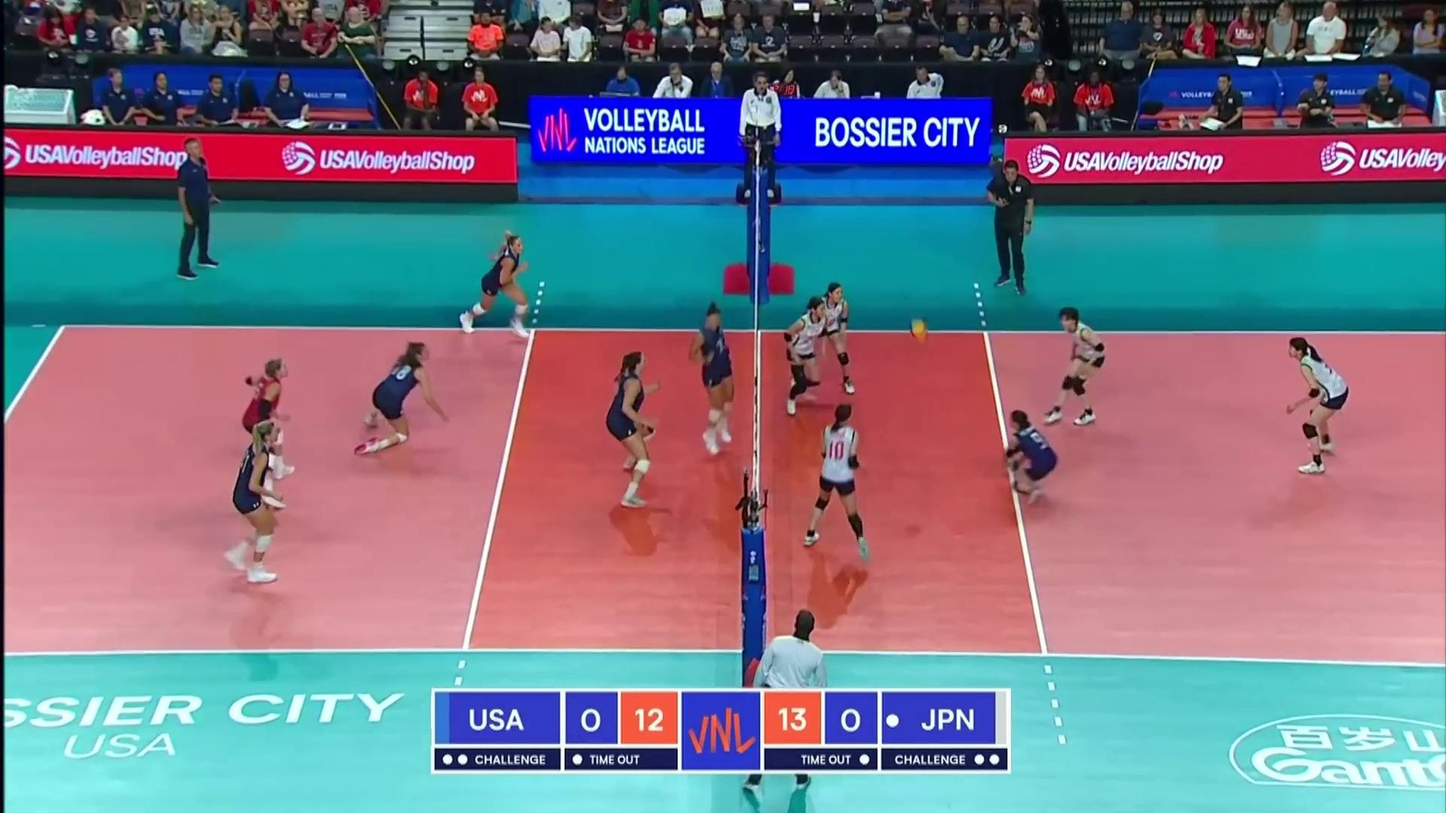player: (359, 344, 451, 458), (606, 349, 667, 512), (227, 414, 284, 588), (807, 404, 870, 561), (239, 357, 303, 503), (1280, 338, 1348, 470), (459, 229, 540, 338), (1046, 308, 1113, 425), (689, 302, 739, 456), (799, 282, 858, 395), (785, 298, 832, 412), (1005, 413, 1058, 509)
refree: (746, 608, 825, 795), (737, 74, 783, 196)
